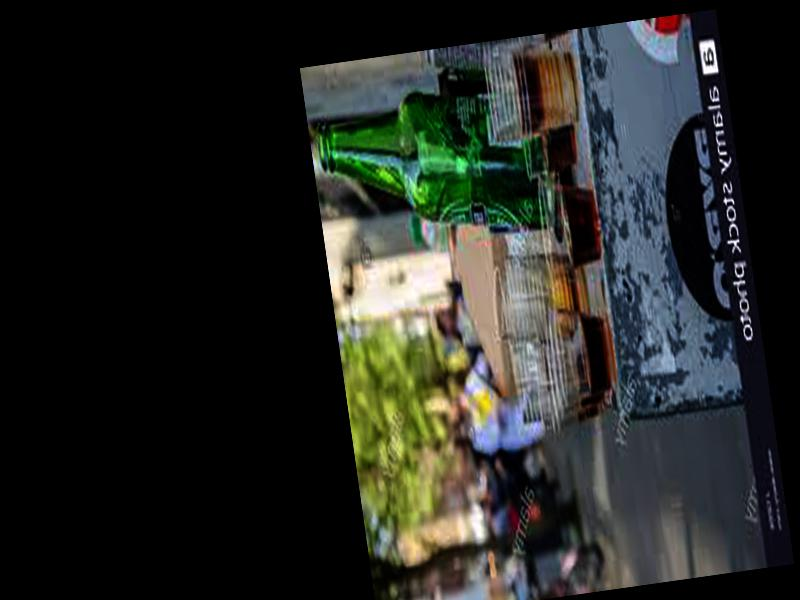Beer: (312, 71, 572, 261)
